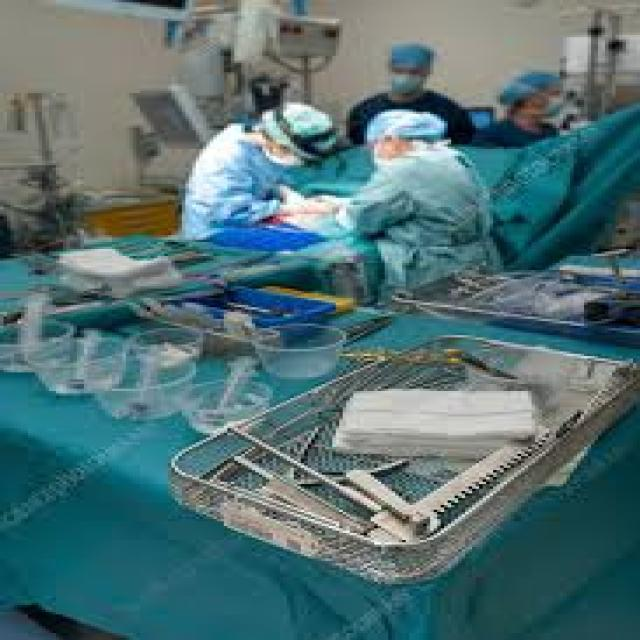tools_table: (0, 299, 636, 588)
